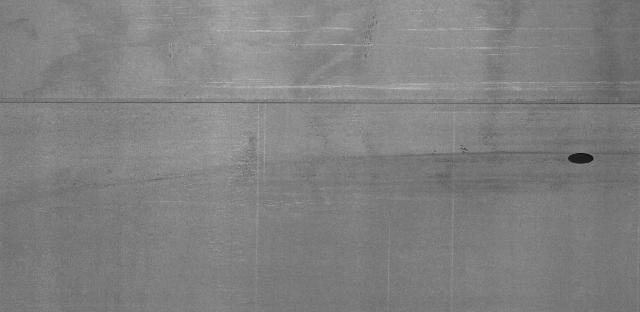punching_hole: (562, 145, 604, 169)
welding_line: (1, 88, 640, 116)
